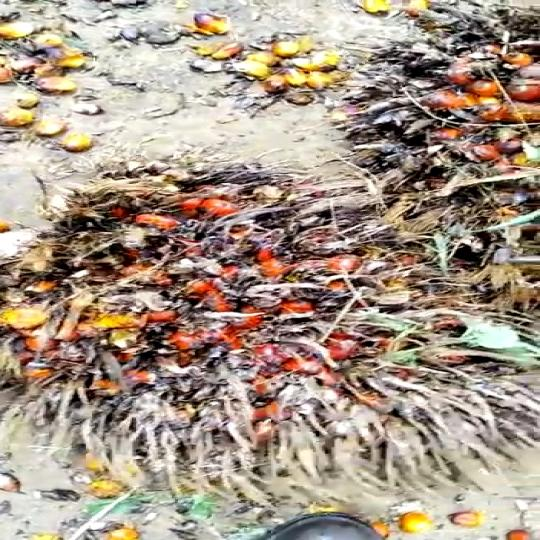terlalu masak: (0, 158, 497, 479)
